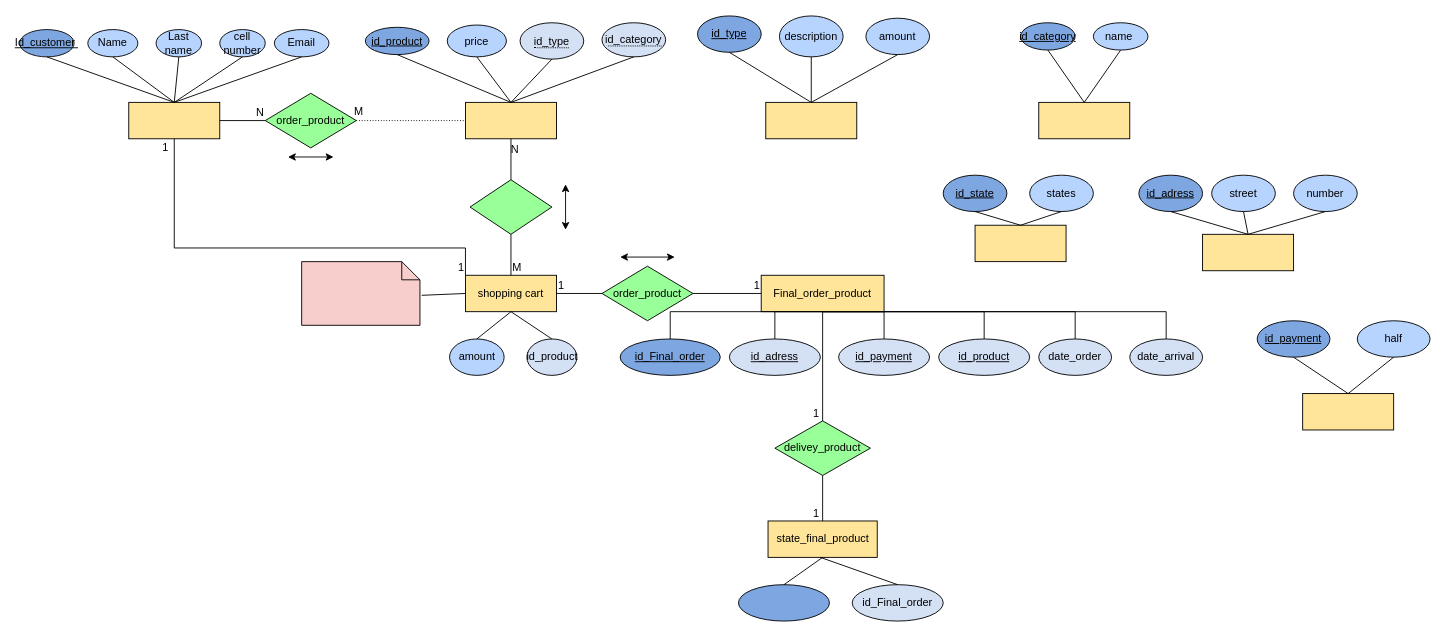
Image size: 1446x644. Some labels were removed from this diagram. The centre of each missing label's shape, as x and y in pixels:
"adress" goes at pixel 1248 252.
"Category" goes at pixel 1084 120.
"Customer" goes at pixel 174 120.
"Half_payment" goes at pixel 1348 411.
"id_state_final" goes at pixel 783 602.
"Product" goes at pixel 510 120.
"product_cart" goes at pixel 510 206.
"Shopping_cart is in temporal table" goes at pixel 360 293.
"state" goes at pixel 1020 243.
"Type" goes at pixel 811 120.
